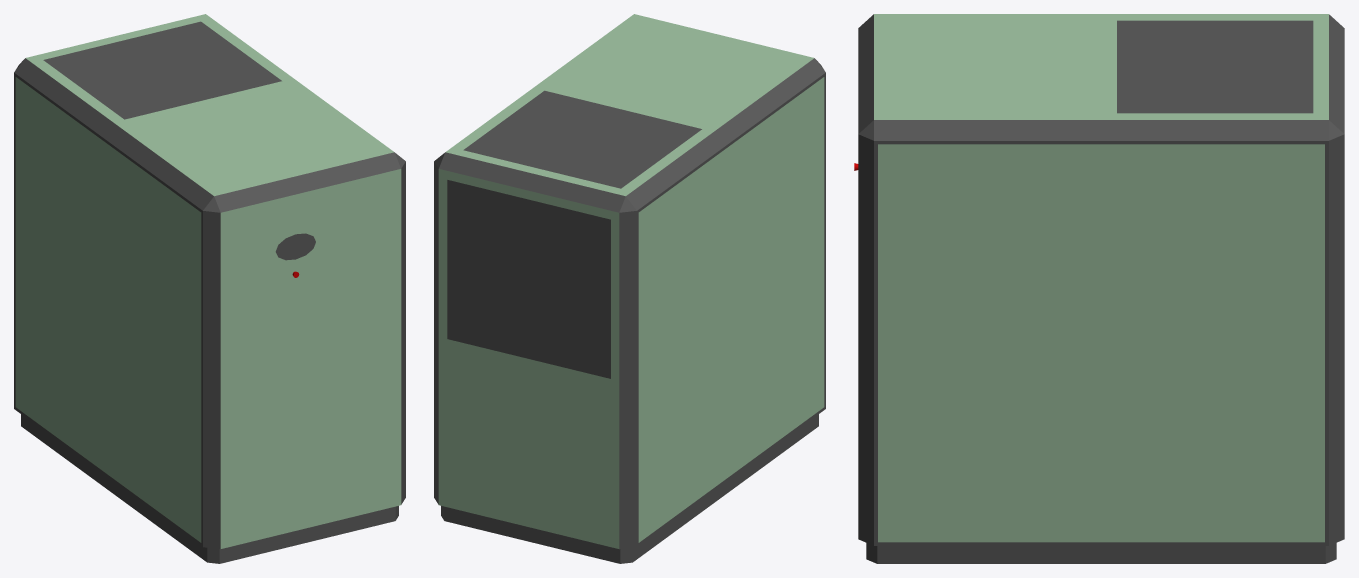
The model's file is computer1.obj.
The picture shows the model from 3 angles, left to right: view 1: azimuth 30°, elevation 25°; view 2: azimuth 150°, elevation 25°; view 3: azimuth 270°, elevation 25°; orthographic projection. The views are drawn at different scales.
Visible parts, largest first — view 1: Sullair_4500v__4509_-SKP--Sullair_Green, Sullair_4500v__4509_-SKP--Color_006; view 2: Sullair_4500v__4509_-SKP--Sullair_Green, Sullair_4500v__4509_-SKP--Color_006; view 3: Sullair_4500v__4509_-SKP--Sullair_Green, Sullair_4500v__4509_-SKP--Color_006.
Boxes of the visible parts, x1,y1,x2,y2 form: Sullair_4500v__4509_-SKP--Sullair_Green: (15, 14, 401, 548); Sullair_4500v__4509_-SKP--Color_006: (14, 21, 405, 563); Sullair_4500v__4509_-SKP--Sullair_Green: (438, 14, 824, 548); Sullair_4500v__4509_-SKP--Color_006: (434, 58, 825, 563); Sullair_4500v__4509_-SKP--Sullair_Green: (874, 14, 1328, 542); Sullair_4500v__4509_-SKP--Color_006: (858, 14, 1344, 563).
Size of the model in its own units: 0.9144 by 1.57 by 1.59.
